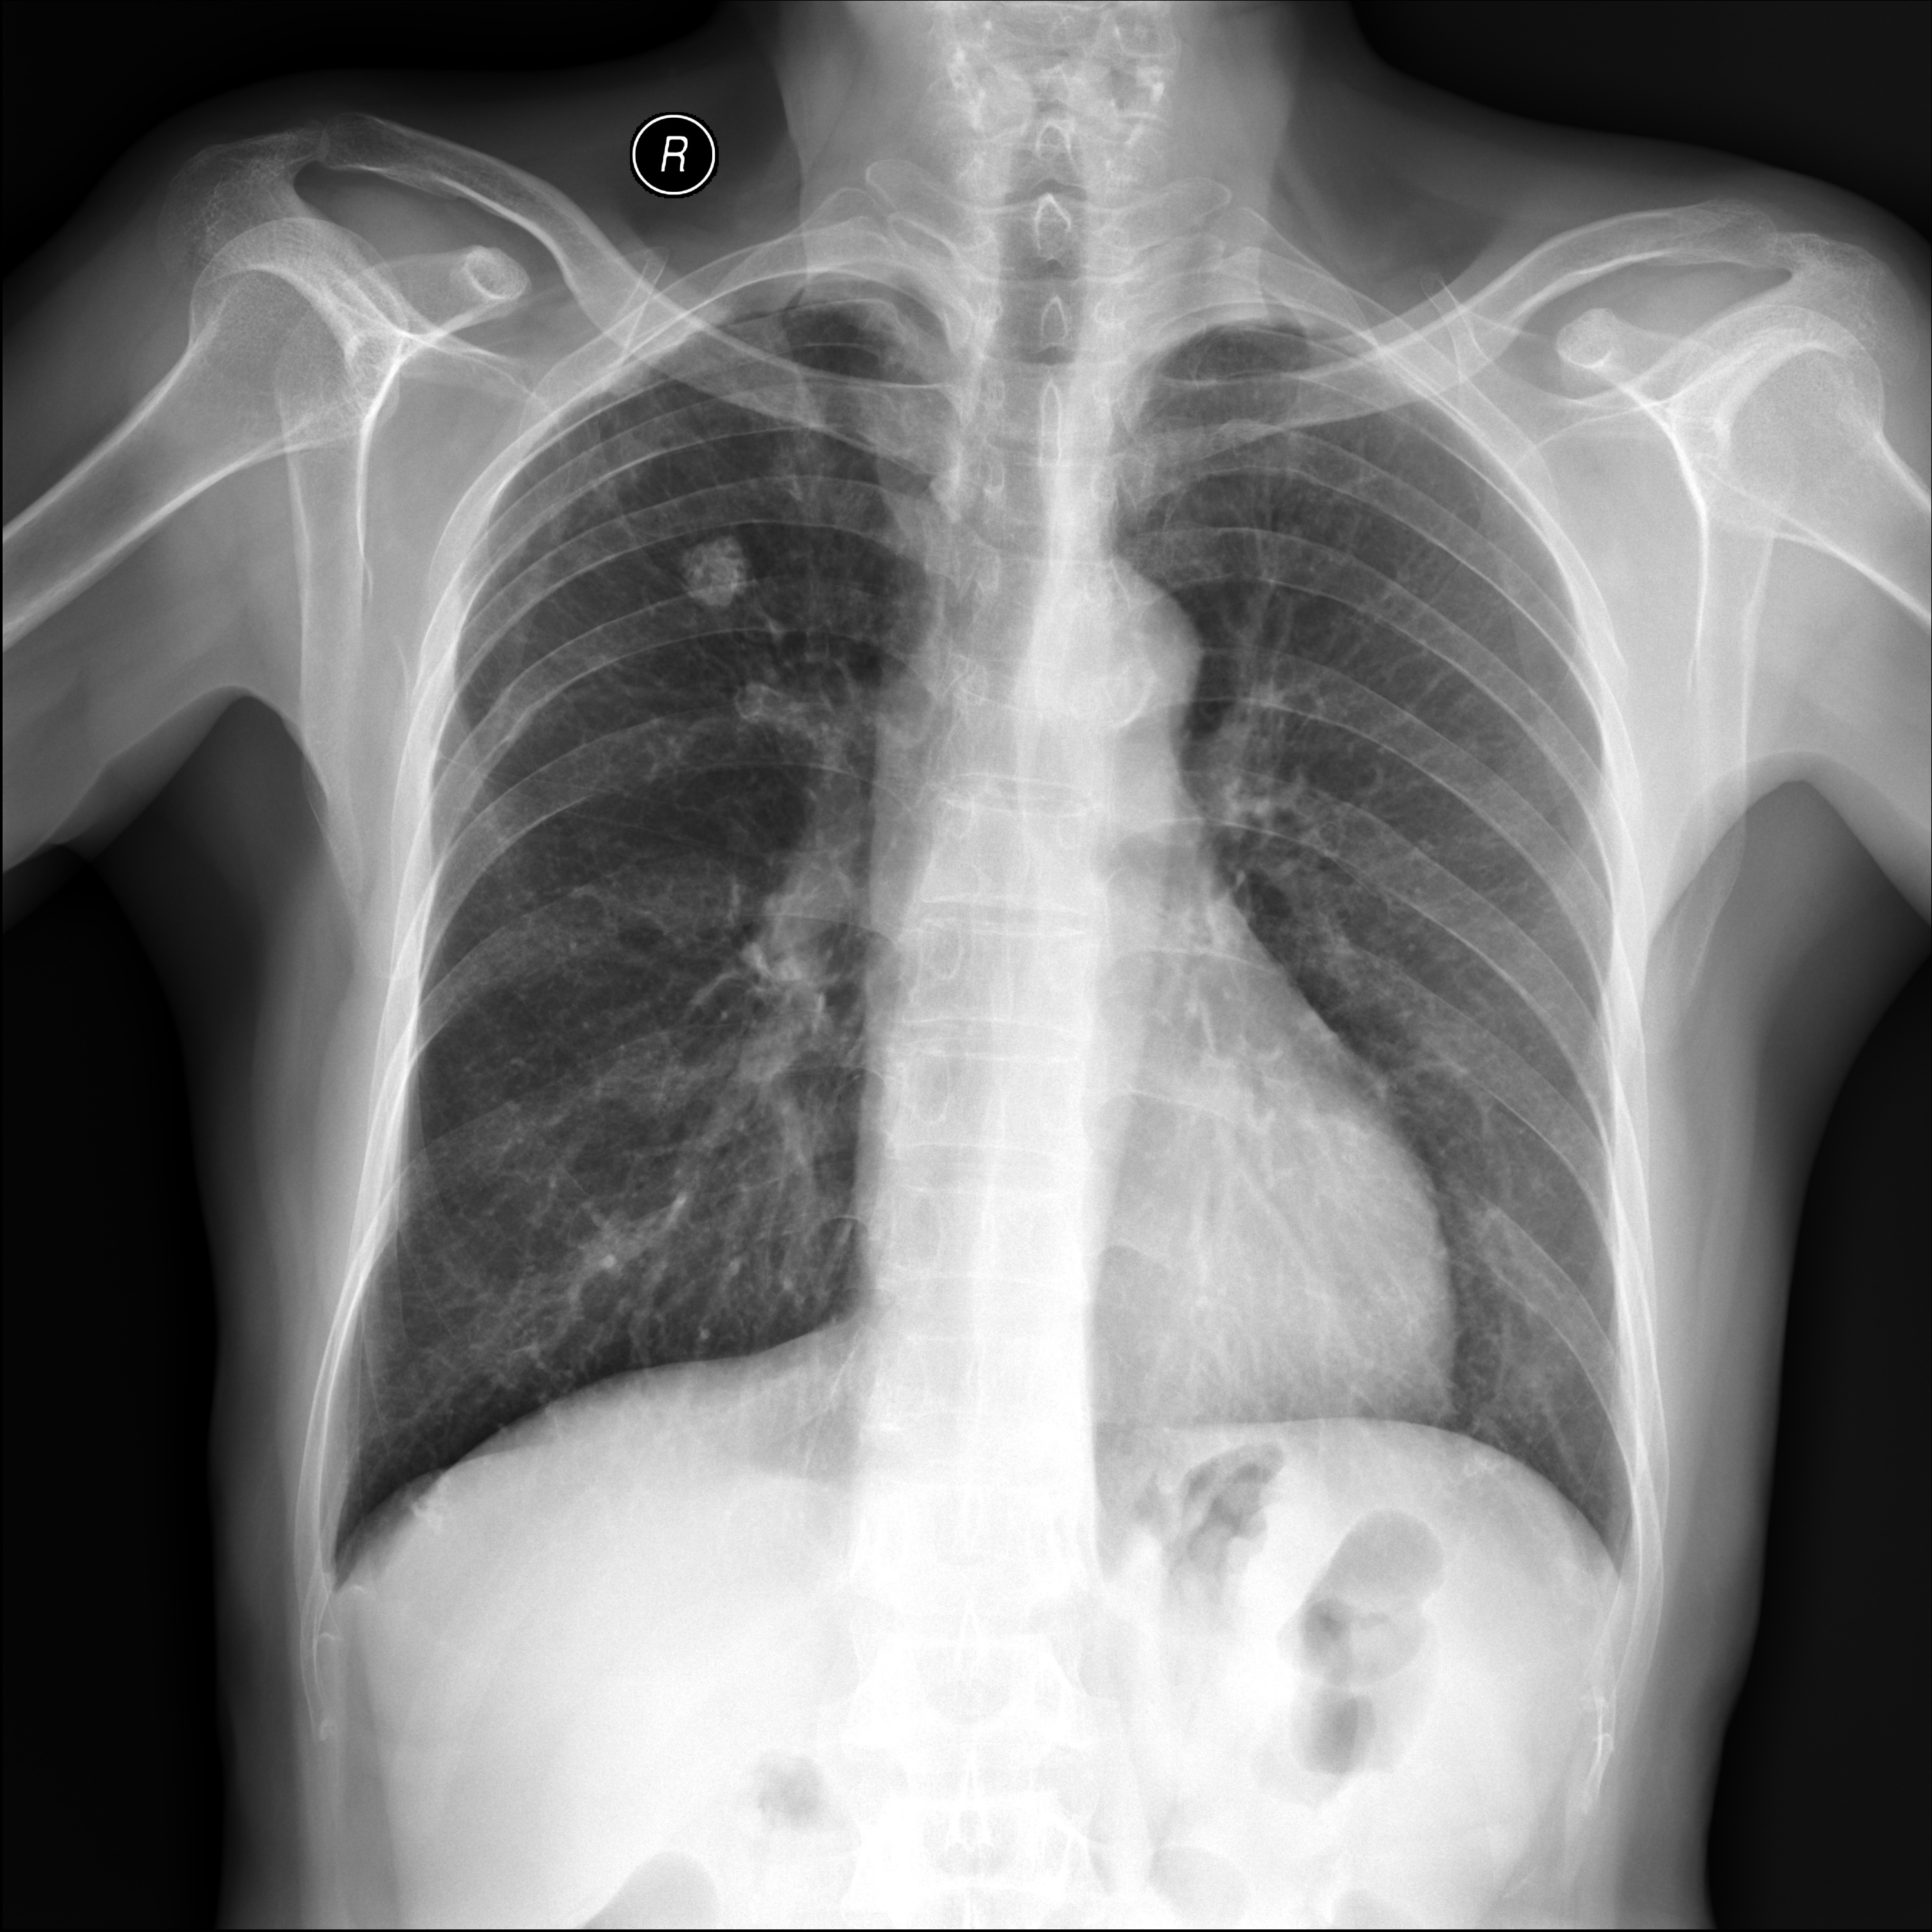nodule: (653, 511, 786, 656)
